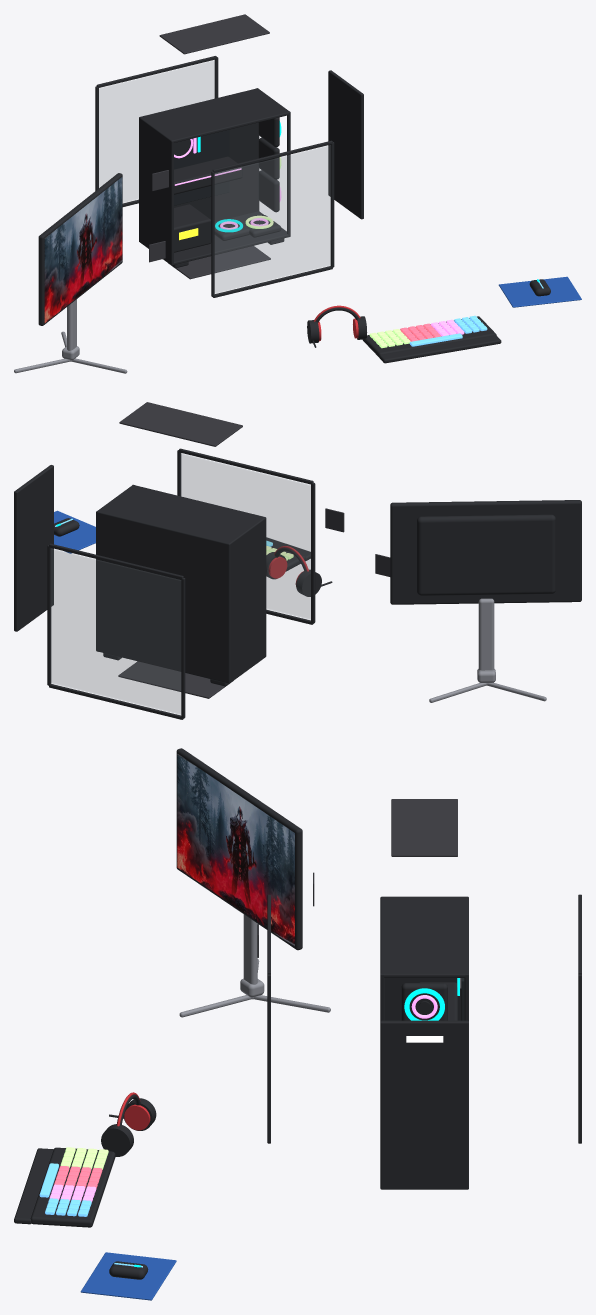
File: computadoraa.glb
3 views of the same model, one above another, from view 1: azimuth 30°, elevation 25°; view 2: azimuth 150°, elevation 25°; view 3: azimuth 270°, elevation 25° (orthographic). The views are drawn at different scales.
Visible parts, largest first — view 1: Panel_Lateral_Frontal_Vidrio, Panel_Lateral_Trasero_Vidrio, Monitor_Pantalla, Panel_Frontal, Torre_Techo, Torre_Lateral_Posterior, Torre_Pared_Trasera, Filtro_Superior, Panel_Lateral_Frontal_Marco, Placa_Base, Alfombrilla, Torre_Fondo (+16 smaller); view 2: Torre_Pared_Trasera, Panel_Lateral_Trasero_Vidrio, Monitor_Carcasa, Panel_Lateral_Frontal_Vidrio, Monitor_Marco, Panel_Frontal, Torre_Techo, Torre_Lateral_Posterior, Filtro_Superior, Panel_Lateral_Trasero_Marco, Filtro_Inferior, Panel_Lateral_Frontal_Marco (+4 smaller); view 3: Panel_Frontal, Monitor_Pantalla, Torre_Techo, Filtro_Superior, Alfombrilla, Monitor_Marco, Teclado_Base, Teclado_Reposamuñecas, Torre_Lateral_Posterior, Ventilador_Frontal_1, Teclas_Azul, Panel_Lateral_Trasero_Marco (+6 smaller).
Part boxes in pixels (x1,y1,x2,y2): Panel_Lateral_Frontal_Vidrio: (215, 145, 330, 293); Panel_Lateral_Trasero_Vidrio: (99, 60, 214, 202); Monitor_Pantalla: (44, 177, 122, 322); Panel_Frontal: (328, 70, 363, 219); Torre_Techo: (139, 88, 289, 142); Torre_Lateral_Posterior: (139, 116, 173, 265); Torre_Pared_Trasera: (139, 89, 258, 239); Filtro_Superior: (159, 14, 269, 54); Panel_Lateral_Frontal_Marco: (211, 140, 334, 297); Placa_Base: (174, 129, 229, 205); Alfombrilla: (498, 276, 581, 307); Torre_Fondo: (139, 211, 289, 265); Torre_Pared_Trasera: (97, 511, 230, 682); Panel_Lateral_Trasero_Vidrio: (51, 549, 180, 714); Monitor_Carcasa: (417, 514, 555, 595); Panel_Lateral_Frontal_Vidrio: (181, 454, 310, 619); Monitor_Marco: (390, 500, 581, 604); Panel_Frontal: (14, 465, 53, 631); Torre_Techo: (97, 485, 266, 545); Torre_Lateral_Posterior: (227, 517, 266, 682); Filtro_Superior: (119, 402, 242, 446); Panel_Lateral_Trasero_Marco: (47, 543, 185, 719); Filtro_Inferior: (118, 661, 232, 698); Panel_Lateral_Frontal_Marco: (177, 448, 315, 624); Panel_Frontal: (380, 1020, 468, 1189); Monitor_Pantalla: (177, 754, 294, 946); Torre_Techo: (380, 896, 468, 977); Filtro_Superior: (391, 799, 457, 856); Alfombrilla: (80, 1252, 176, 1300); Monitor_Marco: (176, 748, 302, 950); Teclado_Base: (30, 1147, 115, 1227); Teclado_Reposamuñecas: (14, 1148, 53, 1224); Torre_Lateral_Posterior: (382, 896, 467, 1020); Ventilador_Frontal_1: (401, 983, 447, 1020); Teclas_Azul: (39, 1163, 91, 1216); Panel_Lateral_Trasero_Marco: (578, 894, 581, 1143).
Bounding box in the file's own units: 2.17 × 0.923 × 1.53.
Materials: 16 (1 with a texture image).
